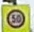limite 50: (6, 9, 25, 28)
